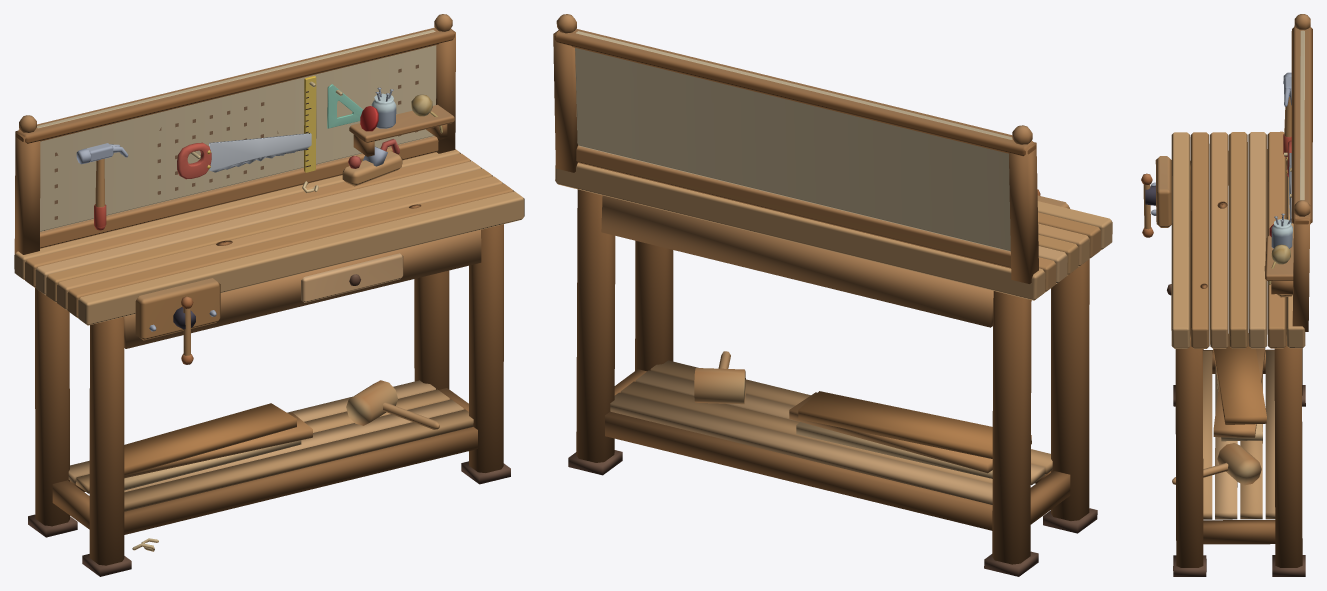
Rendered from furn-workbench.glb.
The picture shows the model from 3 angles, left to right: view 1: azimuth 30°, elevation 25°; view 2: azimuth 150°, elevation 25°; view 3: azimuth 270°, elevation 25°; orthographic projection. The views are drawn at different scales.
Visible parts, largest first — view 1: body; view 2: body; view 3: body.
Boxes of the visible parts, <box> form: body: <box>14,14,524,576</box>; body: <box>553,14,1112,576</box>; body: <box>1141,14,1312,576</box>.
Bounding box in the file's own units: 1.46 × 1.3 × 0.5379.
